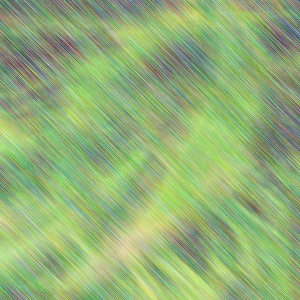Leaf_Blast: (145, 24, 248, 253)
